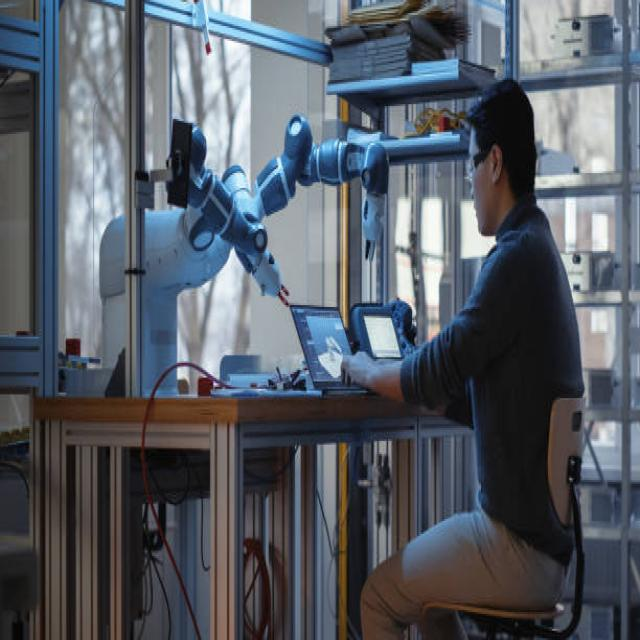Robotic-arm: (86, 108, 388, 376)
